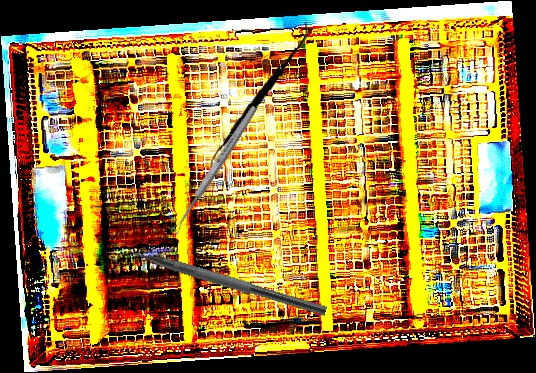Chopper: (113, 231, 332, 317)
Spatula Surgical: (207, 16, 309, 178)
Surgical Spoon: (168, 104, 260, 236)
